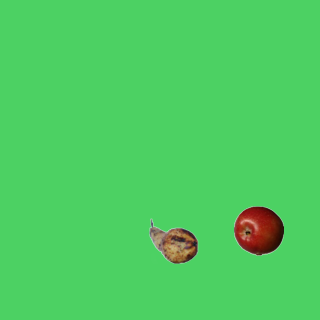Apple Braeburn: (233, 205, 283, 255)
Pear Abate: (148, 216, 198, 266)
